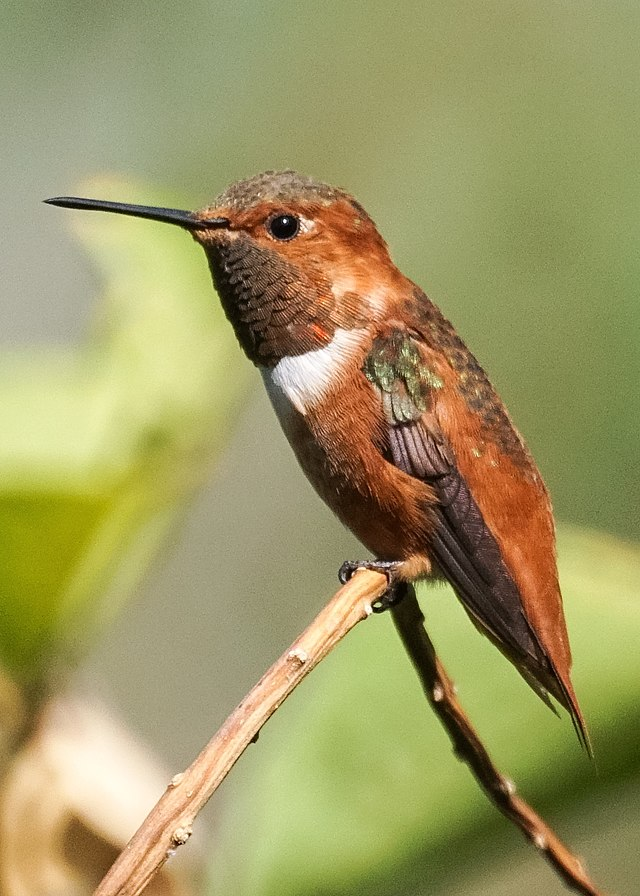selasphorus sasin: (38, 158, 598, 749)
